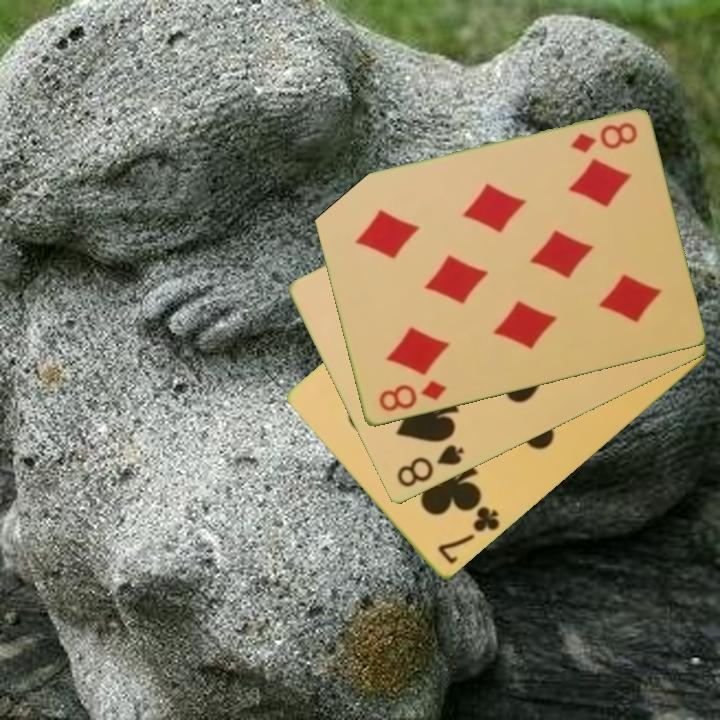7c: (434, 503, 503, 568)
8d: (375, 377, 449, 415), (566, 119, 640, 157)
8s: (393, 441, 467, 491)
